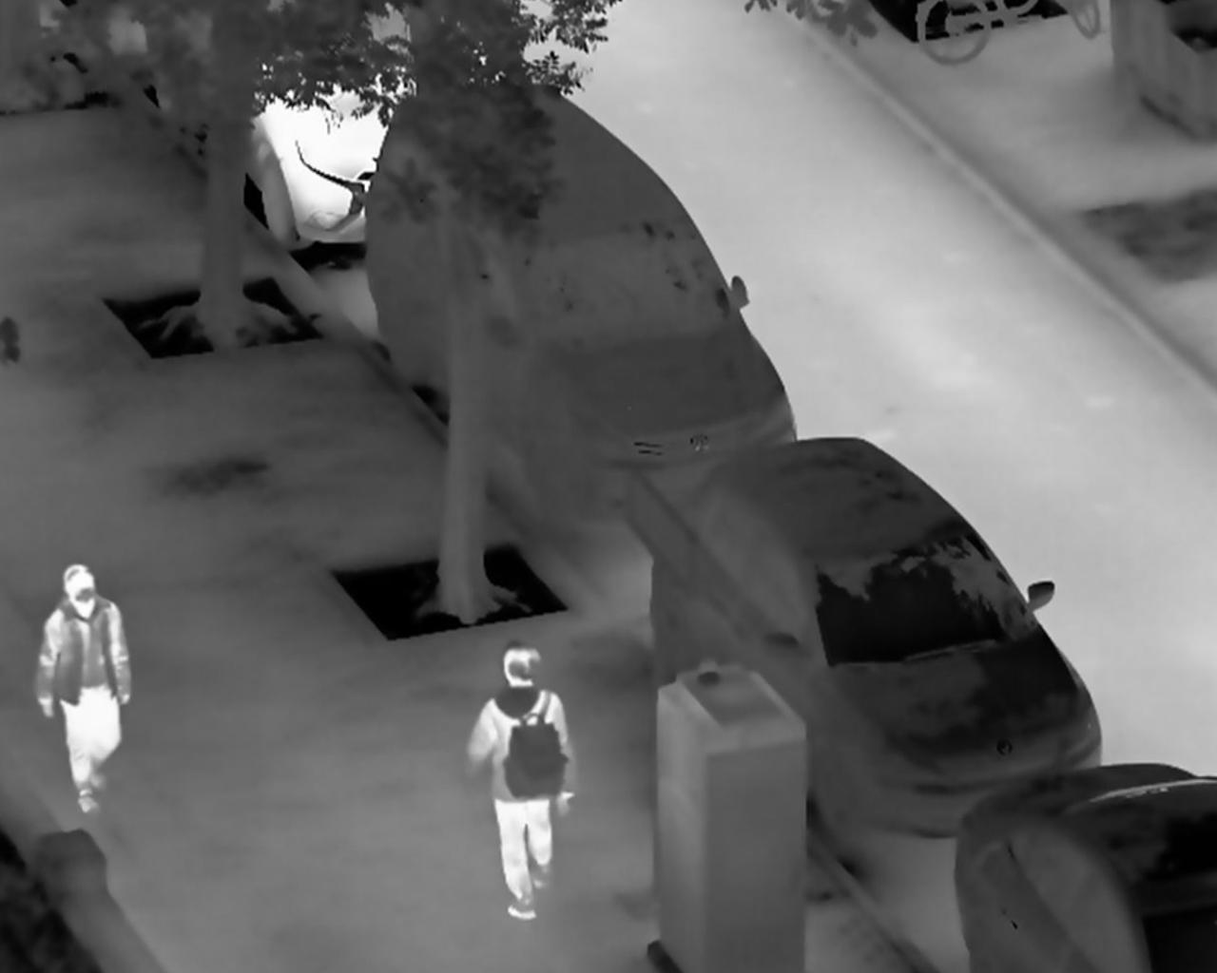person: (464, 640, 582, 923), (32, 562, 137, 819)
